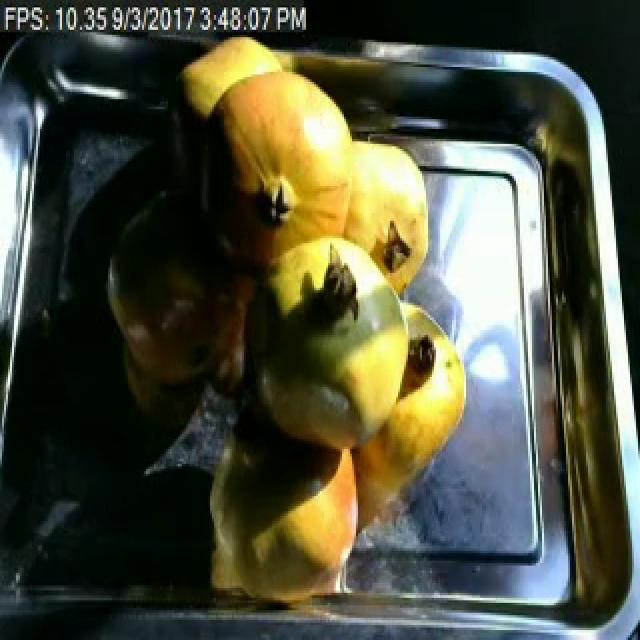fruit: (92, 218, 280, 407), (206, 59, 364, 220), (310, 121, 446, 308)
